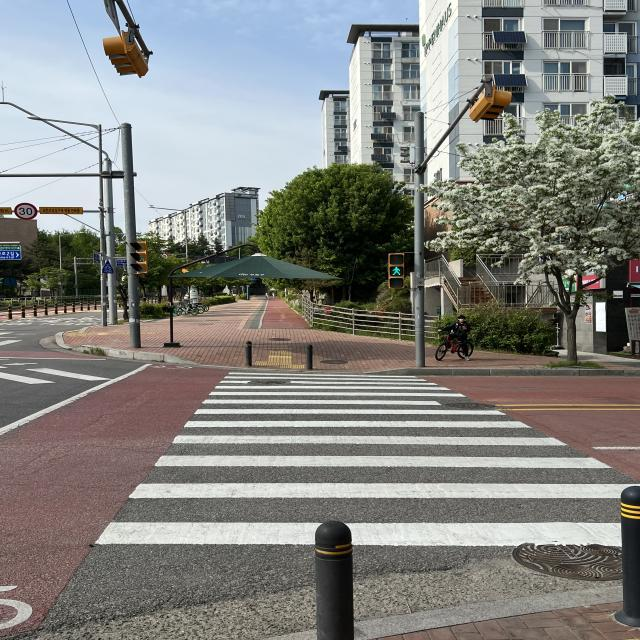crosswalk: (102, 351, 640, 640)
green-light: (390, 249, 413, 295)
